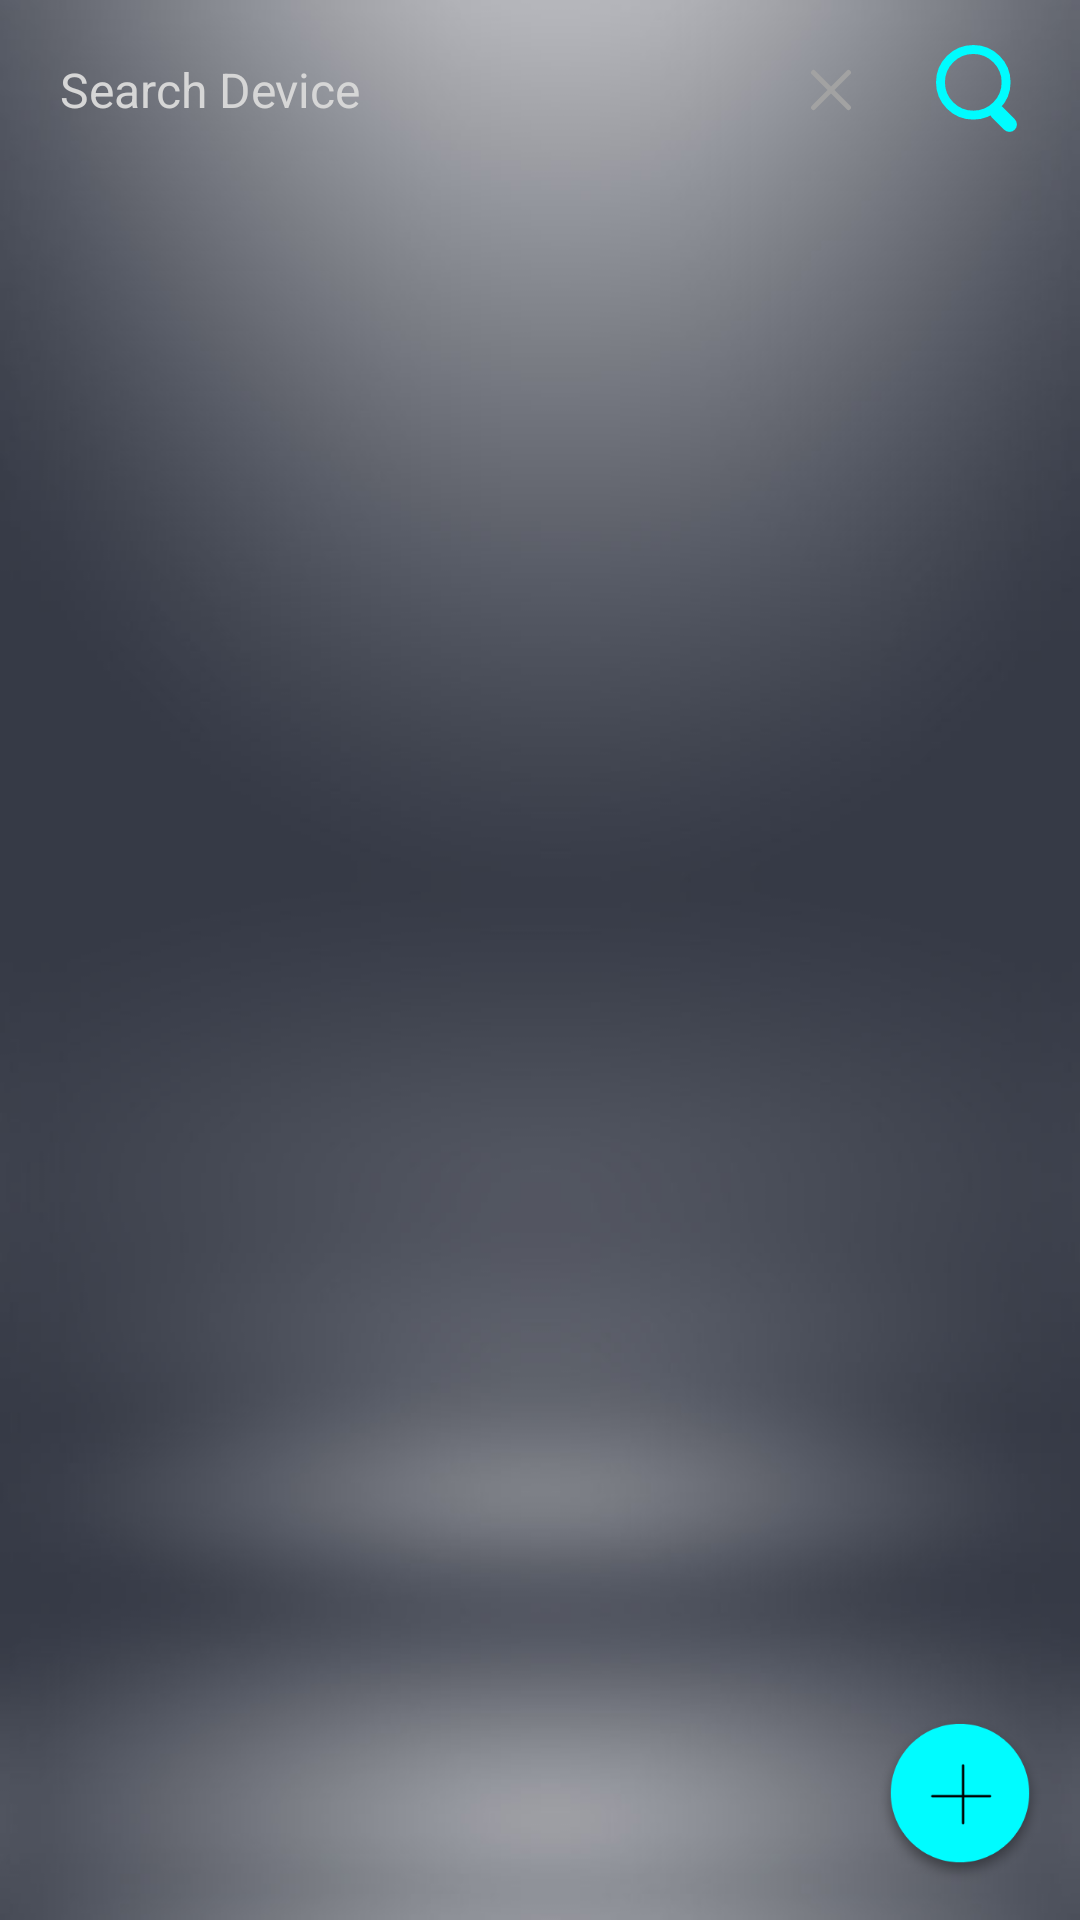

Named icons in this screenshot (1080 x 1920) and their bounding boxes, (x1, y1, x2, y2):
add device: (890, 1724, 1030, 1864)
